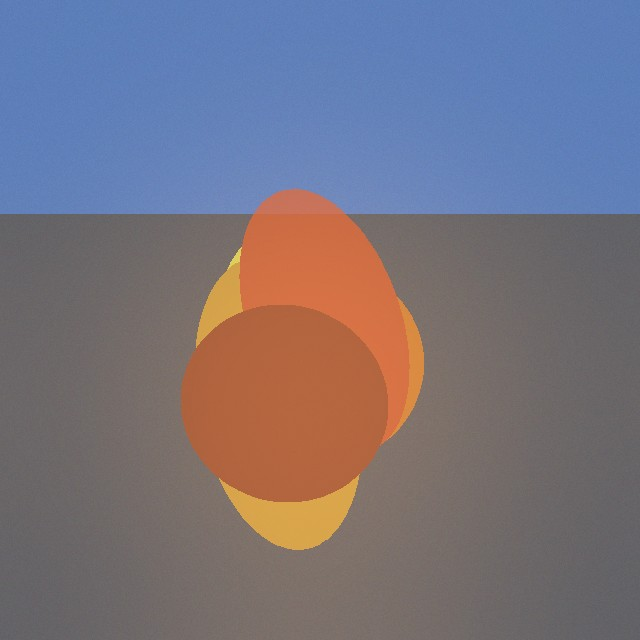fire: (252, 253, 372, 547)
